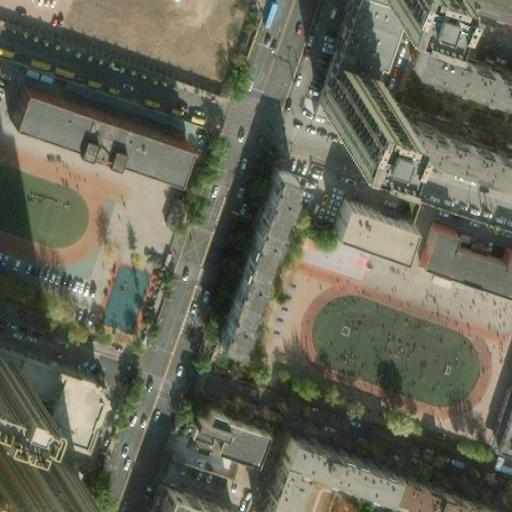building: (1, 75, 178, 168), (210, 166, 289, 342), (304, 0, 405, 131), (7, 362, 102, 464), (376, 114, 512, 184), (277, 432, 390, 495), (419, 213, 512, 287), (410, 44, 512, 103), (384, 466, 512, 512), (185, 410, 264, 474), (322, 198, 402, 255), (315, 68, 381, 128), (257, 457, 308, 512), (152, 487, 232, 512), (490, 386, 512, 451)
